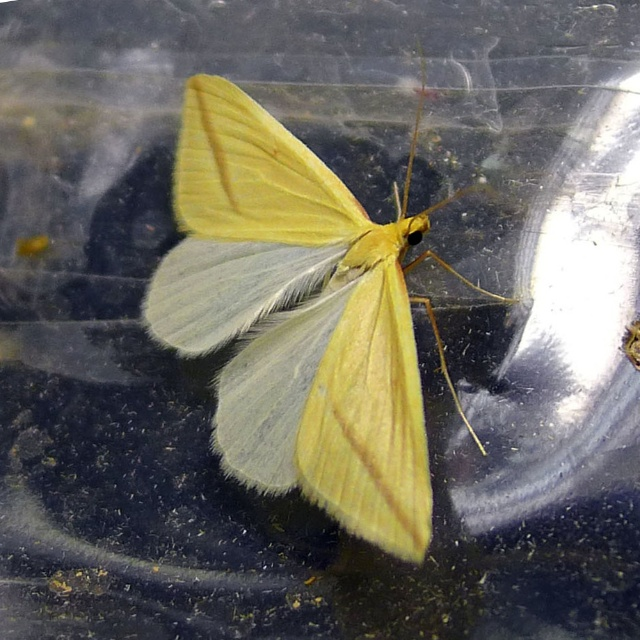Moths and butterflies: (138, 51, 521, 567)
